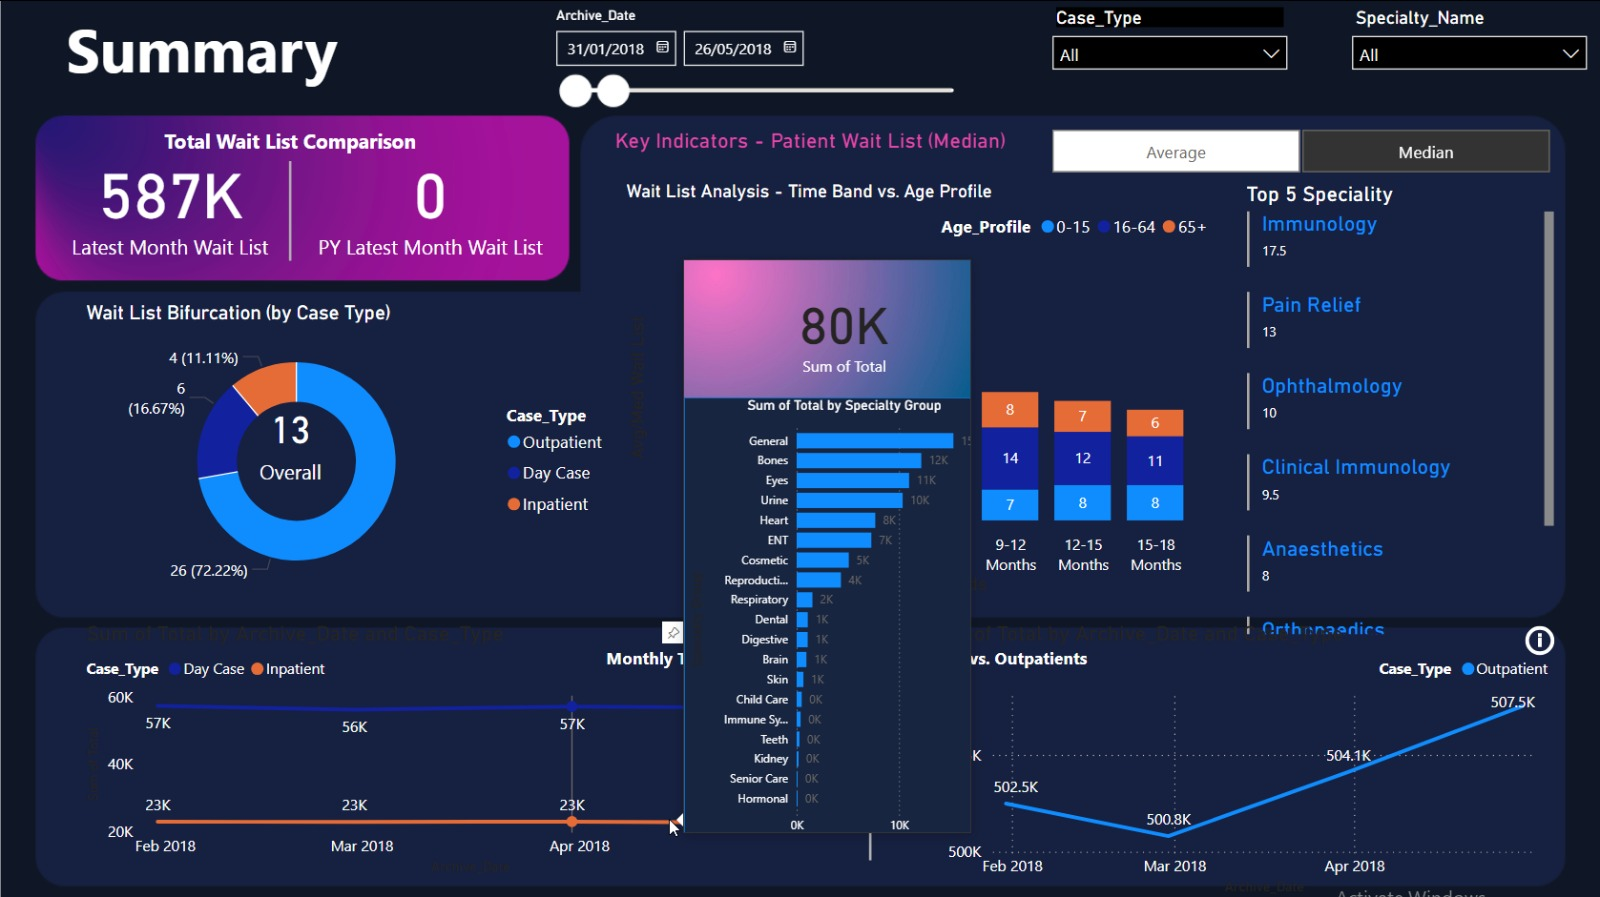

What the dashboard file says about the page in this screenshot:
{"tool":"powerbi","page":{"name":"Summary","canvas":[1280,720],"ordinal":0},"visuals":[{"type":"card","fields":{"Values":["All_Data.Latest_Month_Wait_List"]},"box":[0,96,272,128],"z":0},{"type":"card","fields":{"Values":["All_Data.PY_Latest_Month_Wait_List"]},"box":[208,96,272,128],"z":1000},{"type":"slicer","fields":{"Values":["Calculation Method.Calc Method"]},"box":[816,96,448,48],"z":2000},{"type":"donutChart","title":"Wait List Bifurcation (by Case Type)","fields":{"Category":["All_Data.Case_Type"],"Y":["All_Data.Avg/Med Wait List","All_Data.PY Latest Month Wait List"]},"box":[64,240,432,240],"z":3000},{"type":"columnChart","title":"Wait List Analysis - Time Band vs. Age Profile","fields":{"Y":["All_Data.Avg/Med Wait List"],"Category":["All_Data.Time_Bands"],"Series":["All_Data.Age_Profile"]},"box":[496,144,480,336],"z":4000},{"type":"multiRowCard","title":"Top 5 Speciality","fields":{"Values":["All_Data.Specialty_Name","All_Data.Avg/Med Wait List"]},"box":[992,144,256,368],"z":5000},{"type":"lineChart","fields":{"Category":["All_Data.Archive_Date"],"Y":["Sum(All_Data.Total)"],"Series":["All_Data.Case_Type"]},"box":[64,496,592,208],"z":6000},{"type":"lineChart","fields":{"Category":["All_Data.Archive_Date"],"Y":["Sum(All_Data.Total)"],"Series":["All_Data.Case_Type"]},"box":[736,496,512,224],"z":7000},{"type":"slicer","fields":{"Values":["All_Data.Archive_Date"]},"box":[432,0,352,96],"z":8000},{"type":"slicer","fields":{"Values":["All_Data.Case_Type"]},"box":[832,0,208,64],"z":9000},{"type":"slicer","fields":{"Values":["All_Data.Specialty_Name"]},"box":[1072,0,208,64],"z":10000},{"type":"textbox","box":[48,0,336,80],"z":11000},{"type":"card","fields":{"Values":["All_Data.Avg/Med Wait List"]},"box":[176,304,112,96],"z":12000},{"type":"shape","box":[80,128,304,80],"z":13000},{"type":"textbox","box":[80,96,304,48],"z":14000},{"type":"textbox","box":[480,512,400,48],"z":15000},{"type":"shape","box":[544,560,304,128],"z":16000},{"type":"card","fields":{"Values":["All_Data.Dynamic Title"]},"box":[464,80,368,64],"z":17000},{"type":"actionButton","box":[1216,496,64,32],"z":18000}]}

Visuals, with their boxes in screenshot pixels (x1, y1, x2, y2), scaled from the page's 1280x720 canvas onto the 1600x897 screenshot:
card - All_Data.Latest_Month_Wait_List: <bbox>0, 120, 340, 279</bbox>
card - All_Data.PY_Latest_Month_Wait_List: <bbox>260, 120, 600, 279</bbox>
slicer - Calculation Method.Calc Method: <bbox>1020, 120, 1580, 179</bbox>
"Wait List Bifurcation (by Case Type)" donutChart: <bbox>80, 299, 620, 598</bbox>
"Wait List Analysis - Time Band vs. Age Profile" columnChart: <bbox>620, 179, 1220, 598</bbox>
"Top 5 Speciality" multiRowCard: <bbox>1240, 179, 1560, 638</bbox>
lineChart - All_Data.Archive_Date x Sum(All_Data.Total): <bbox>80, 618, 820, 877</bbox>
lineChart - All_Data.Archive_Date x Sum(All_Data.Total): <bbox>920, 618, 1560, 896</bbox>
slicer - All_Data.Archive_Date: <bbox>540, 0, 980, 120</bbox>
slicer - All_Data.Case_Type: <bbox>1040, 0, 1300, 80</bbox>
slicer - All_Data.Specialty_Name: <bbox>1340, 0, 1599, 80</bbox>
textbox: <bbox>60, 0, 480, 100</bbox>
card - All_Data.Avg/Med Wait List: <bbox>220, 379, 360, 498</bbox>
shape: <bbox>100, 159, 480, 259</bbox>
textbox: <bbox>100, 120, 480, 179</bbox>
textbox: <bbox>600, 638, 1100, 698</bbox>
shape: <bbox>680, 698, 1060, 857</bbox>
card - All_Data.Dynamic Title: <bbox>580, 100, 1040, 179</bbox>
actionButton: <bbox>1520, 618, 1599, 658</bbox>
